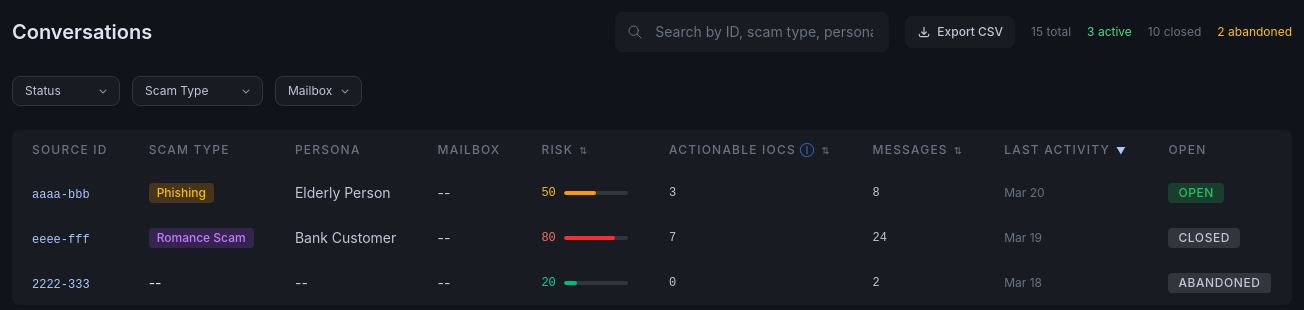
Conversations page — coverage gaps › filters by search query matching conv_id
Expected: the link "aaaa-bbb" is shown, x1=32 y1=188 x2=90 y2=202
Step 1. Type "aaaa" into the field named "Search conversations" → (752, 32), box x1=615 y1=12 x2=889 y2=52
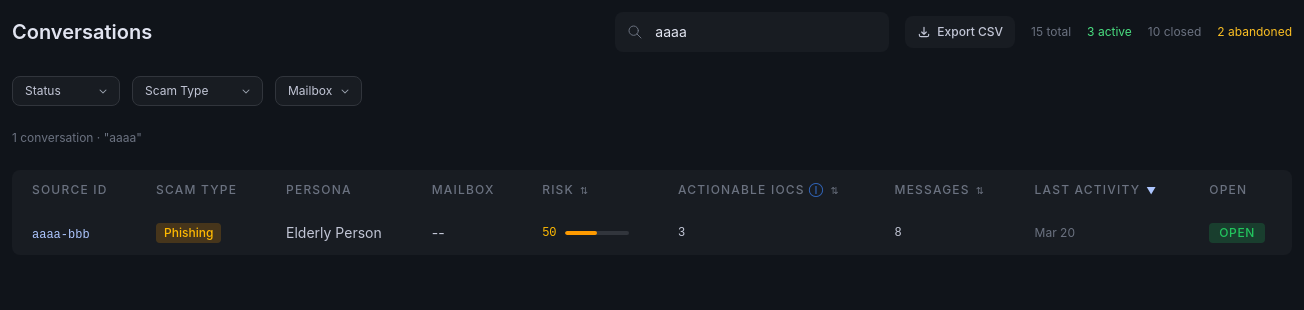
Expected: the link "aaaa-bbb" is shown, x1=32 y1=228 x2=90 y2=242
Expected: the link "eeee-fff" is gone
